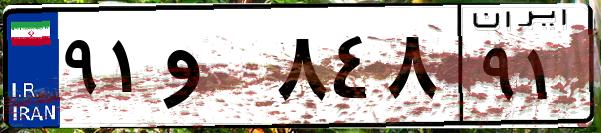1: (525, 38, 570, 115), (110, 28, 158, 98)
4: (330, 28, 385, 110)
8: (270, 28, 330, 110), (385, 28, 445, 110)
9: (57, 26, 110, 100), (475, 38, 525, 113)
و: (158, 20, 270, 120)
